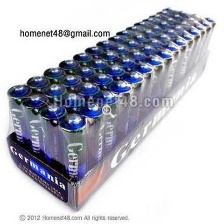battery: (57, 111, 92, 191), (37, 101, 69, 184), (20, 91, 50, 171), (5, 82, 35, 157), (91, 89, 120, 166), (78, 101, 104, 182), (57, 91, 86, 162), (104, 79, 132, 150), (40, 80, 68, 150), (117, 69, 144, 138), (128, 62, 155, 127), (103, 63, 128, 126), (25, 72, 51, 131), (150, 48, 176, 103), (41, 63, 67, 117), (142, 55, 165, 114), (72, 64, 95, 118), (94, 36, 115, 95), (165, 37, 188, 87), (116, 55, 138, 107), (59, 72, 83, 119), (87, 56, 112, 101), (89, 71, 111, 122), (160, 43, 181, 96), (135, 43, 156, 96), (58, 56, 83, 100), (117, 38, 139, 87), (98, 49, 119, 98), (124, 50, 144, 101), (81, 45, 105, 87), (175, 17, 191, 79), (111, 41, 127, 102), (77, 80, 97, 126), (160, 5, 176, 62), (176, 32, 195, 79), (148, 37, 165, 89), (161, 27, 179, 75), (144, 16, 161, 66), (106, 32, 122, 85), (155, 30, 171, 83), (152, 11, 168, 64), (124, 22, 142, 69), (183, 12, 201, 59), (71, 52, 95, 87), (115, 27, 132, 76), (137, 26, 158, 65), (171, 10, 188, 58), (184, 27, 200, 75), (131, 32, 147, 80), (194, 17, 211, 61), (169, 22, 184, 69), (155, 19, 172, 60), (191, 21, 204, 66)
